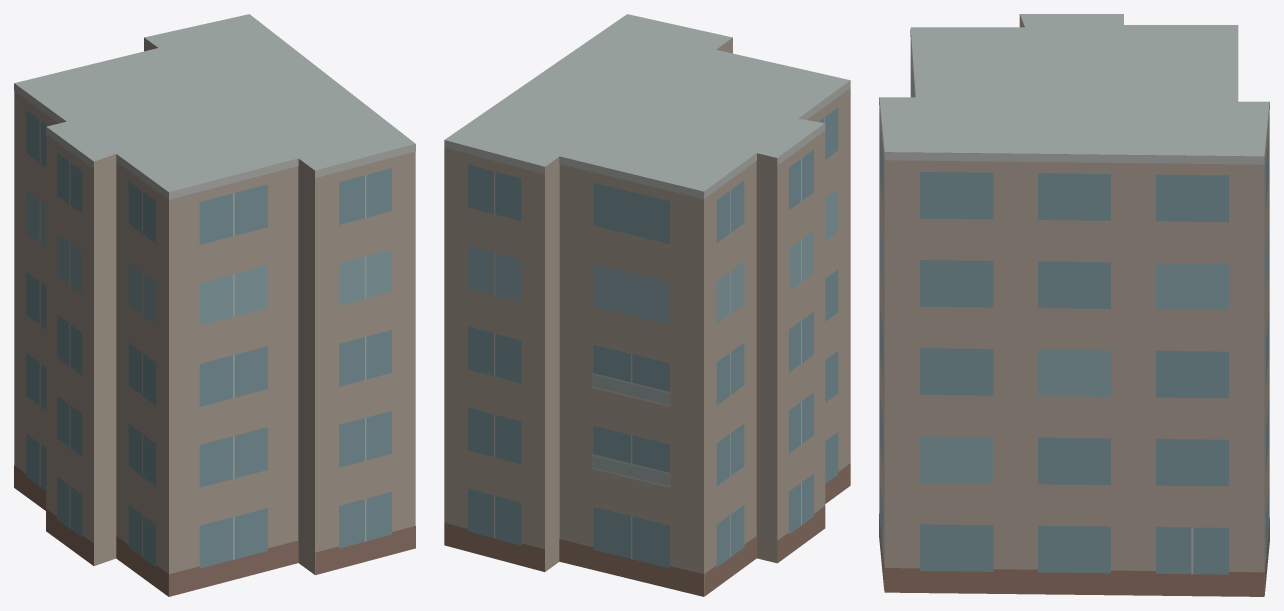
The model's file is survey-upis-32837799.glb.
The picture shows the model from 3 angles, left to right: view 1: azimuth 30°, elevation 25°; view 2: azimuth 150°, elevation 25°; view 3: azimuth 270°, elevation 25°; orthographic projection. The views are drawn at different scales.
Parts seen in each view (by area): view 1: survey-upis-32837799.tmp; view 2: survey-upis-32837799.tmp; view 3: survey-upis-32837799.tmp.
Part boxes in pixels (<box>): survey-upis-32837799.tmp: <box>14,14,415,596</box>; survey-upis-32837799.tmp: <box>444,14,850,596</box>; survey-upis-32837799.tmp: <box>879,14,1269,596</box>.
Bounding box in the file's own units: 9.02 × 13 × 10.45.
